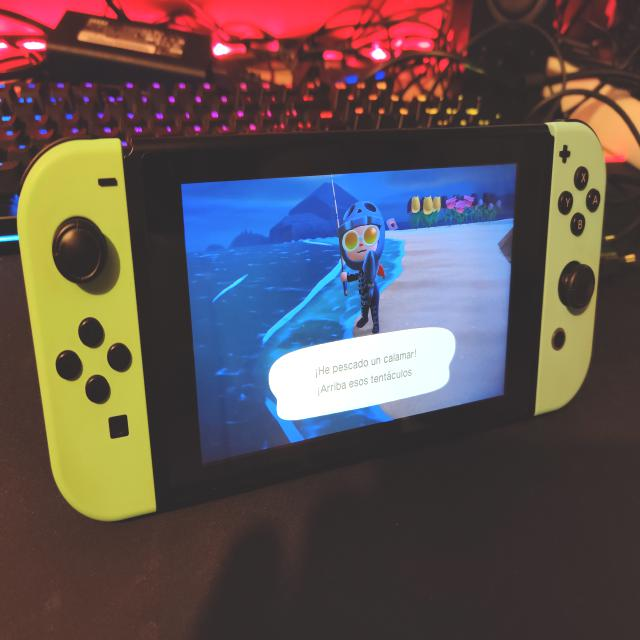text_bubble: (267, 327, 459, 424)
